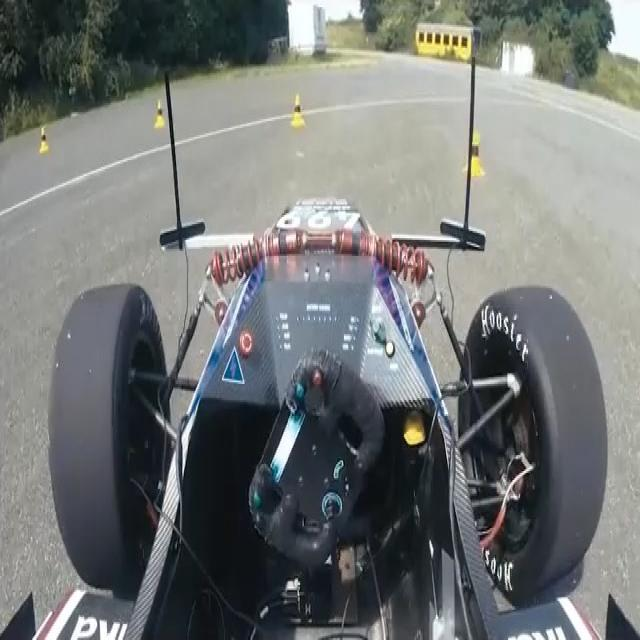yellow_cone: (286, 89, 310, 128), (466, 134, 485, 179), (147, 94, 169, 130), (37, 123, 54, 162)
